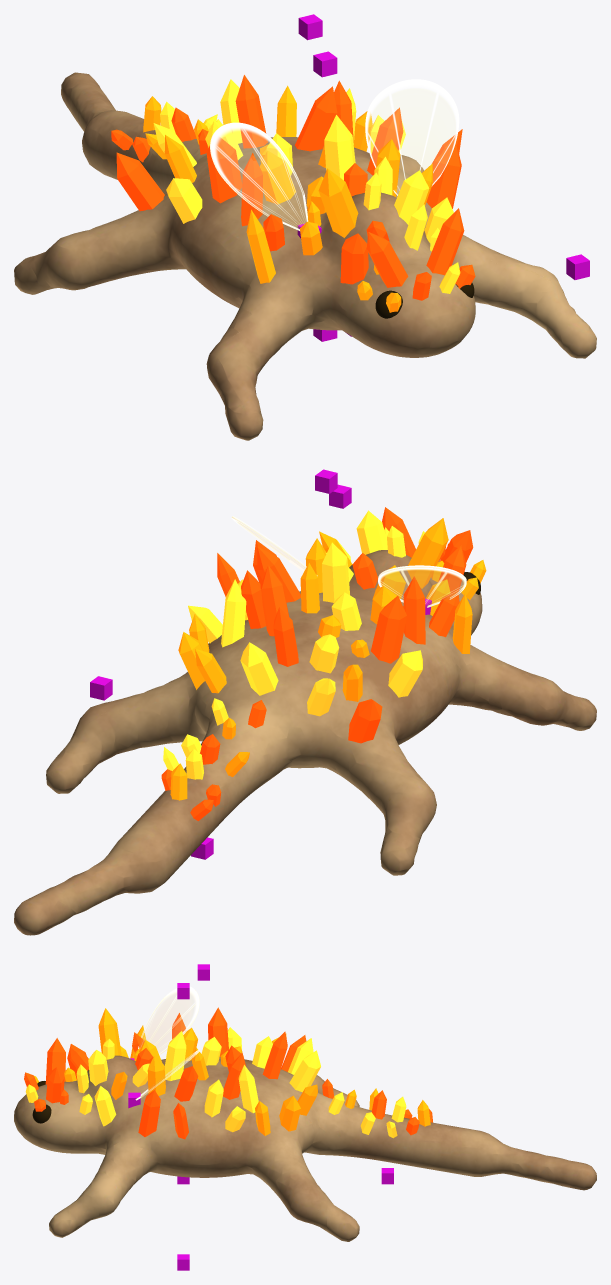
The model's file is 05_lucertola_cristallo.glb.
3 renders of one model, top to bottom at view 1: azimuth 30°, elevation 25°; view 2: azimuth 150°, elevation 25°; view 3: azimuth 270°, elevation 25°, orthographic. The views are drawn at different scales.
Parts seen in each view (by area): view 1: Lucertola__Pelle, Lucertola__Cristallo_Rosso, Lucertola__Cristallo_Brace, Lucertola__Cristallo_Arancio, Lucertola__Alucce__Aluccia_R, Lucertola__Alucce__Aluccia_L; view 2: Lucertola__Pelle, Lucertola__Cristallo_Rosso, Lucertola__Cristallo_Arancio, Lucertola__Cristallo_Brace, Lucertola__Alucce__Aluccia_L, Lucertola__Alucce__Aluccia_R; view 3: Lucertola__Pelle, Lucertola__Cristallo_Arancio, Lucertola__Cristallo_Rosso, Lucertola__Cristallo_Brace, Lucertola__Alucce__Aluccia_L.
Boxes of the visible parts, bbox=[...] form: Lucertola__Pelle: bbox=[14, 72, 596, 440]; Lucertola__Cristallo_Rosso: bbox=[111, 75, 475, 300]; Lucertola__Cristallo_Brace: bbox=[143, 85, 432, 312]; Lucertola__Cristallo_Arancio: bbox=[153, 79, 460, 293]; Lucertola__Alucce__Aluccia_R: bbox=[365, 79, 459, 195]; Lucertola__Alucce__Aluccia_L: bbox=[210, 122, 308, 230]; Lucertola__Pelle: bbox=[14, 550, 596, 935]; Lucertola__Cristallo_Rosso: bbox=[161, 507, 473, 820]; Lucertola__Cristallo_Arancio: bbox=[163, 510, 425, 779]; Lucertola__Cristallo_Brace: bbox=[170, 518, 486, 800]; Lucertola__Alucce__Aluccia_L: bbox=[378, 565, 466, 607]; Lucertola__Alucce__Aluccia_R: bbox=[231, 516, 317, 576]; Lucertola__Pelle: bbox=[14, 1055, 596, 1241]; Lucertola__Cristallo_Arancio: bbox=[25, 1027, 406, 1138]; Lucertola__Cristallo_Rosso: bbox=[24, 1007, 432, 1139]; Lucertola__Cristallo_Brace: bbox=[34, 1008, 430, 1135]; Lucertola__Alucce__Aluccia_L: bbox=[138, 986, 199, 1054].
Size of the model in its own units: 2.69 by 1.74 by 4.28.
7 materials, 2 textured.
